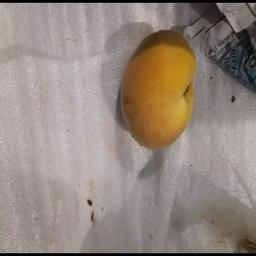Peach Semifresh: (117, 26, 206, 161)
